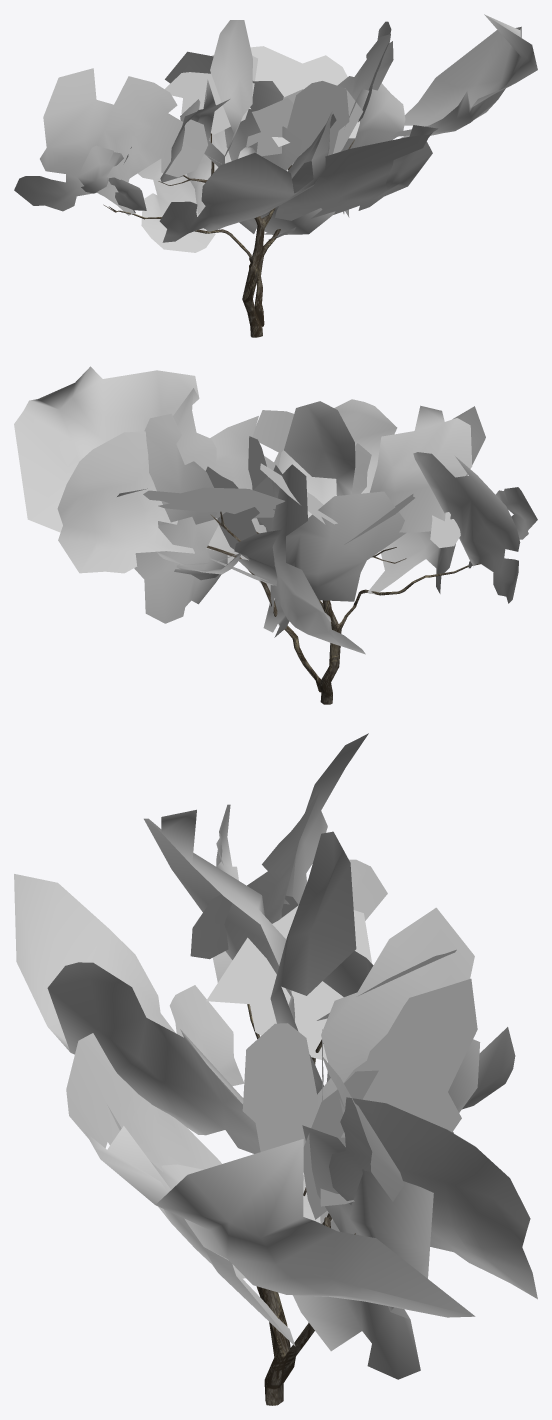
File: CI_Tree_MountainLaurel01_MOD_v3.fbx
3 views of the same model, one above another, from view 1: azimuth 30°, elevation 25°; view 2: azimuth 150°, elevation 25°; view 3: azimuth 270°, elevation 25° (orthographic). The views are drawn at different scales.
Visible parts, largest first — view 1: Tree_MountainLaurel_Branch_01_006Backup, Tree_MountainLaurel_Branch_01_004Backup, Tree_MountainLaurel_Branch_03_004Backup, Tree_MountainLaurel_Branch_01_005Backup, Tree_MountainLaurel_Branch_03_005Backup, Tree_MountainLaurel_Branch_02_006Backup, Tree_MountainLaurel_Branch_04_004Backup, Tree_MountainLaurel_01_001Backup, Tree_MountainLaurel_Branch_04_006Backup, Tree_MountainLaurel_Branch_08_005Backup, Tree_MountainLaurel_Branch_07_004Backup, Tree_MountainLaurel_Branch_05_004Backup (+6 smaller); view 2: Tree_MountainLaurel_Branch_03_005Backup, Tree_MountainLaurel_Branch_03_006Backup, Tree_MountainLaurel_Branch_02_006Backup, Tree_MountainLaurel_Branch_04_005Backup, Tree_MountainLaurel_Branch_01_006Backup, Tree_MountainLaurel_Branch_01_005Backup, Tree_MountainLaurel_Branch_01_004Backup, Tree_MountainLaurel_Branch_04_006Backup, Tree_MountainLaurel_Branch_03_004Backup, Tree_MountainLaurel_Branch_05_004Backup, Tree_MountainLaurel_Branch_04_004Backup, Tree_MountainLaurel_01_001Backup (+6 smaller); view 3: Tree_MountainLaurel_Branch_01_005Backup, Tree_MountainLaurel_Branch_03_005Backup, Tree_MountainLaurel_Branch_01_004Backup, Tree_MountainLaurel_Branch_03_006Backup, Tree_MountainLaurel_Branch_02_006Backup, Tree_MountainLaurel_Branch_04_006Backup, Tree_MountainLaurel_Branch_04_004Backup, Tree_MountainLaurel_Branch_03_004Backup, Tree_MountainLaurel_Branch_01_006Backup, Tree_MountainLaurel_Branch_08_006Backup, Tree_MountainLaurel_01_001Backup, Tree_MountainLaurel_Branch_04_005Backup (+3 smaller).
Boxes of the visible parts, x1,y1,x2,y2 form: Tree_MountainLaurel_Branch_01_006Backup: (14, 68, 207, 215); Tree_MountainLaurel_Branch_01_004Backup: (138, 51, 349, 252); Tree_MountainLaurel_Branch_03_004Backup: (268, 125, 438, 239); Tree_MountainLaurel_Branch_01_005Backup: (159, 111, 336, 242); Tree_MountainLaurel_Branch_03_005Backup: (390, 14, 537, 138); Tree_MountainLaurel_Branch_02_006Backup: (160, 20, 252, 182); Tree_MountainLaurel_Branch_04_004Backup: (249, 46, 359, 146); Tree_MountainLaurel_01_001Backup: (103, 133, 354, 337); Tree_MountainLaurel_Branch_04_006Backup: (341, 83, 405, 217); Tree_MountainLaurel_Branch_08_005Backup: (165, 55, 257, 134); Tree_MountainLaurel_Branch_07_004Backup: (246, 98, 293, 156); Tree_MountainLaurel_Branch_05_004Backup: (337, 34, 393, 100); Tree_MountainLaurel_Branch_03_005Backup: (14, 366, 216, 544); Tree_MountainLaurel_Branch_03_006Backup: (57, 431, 194, 573); Tree_MountainLaurel_Branch_02_006Backup: (284, 401, 472, 532); Tree_MountainLaurel_Branch_04_005Backup: (234, 491, 406, 601); Tree_MountainLaurel_Branch_01_006Backup: (413, 452, 520, 603); Tree_MountainLaurel_Branch_01_005Backup: (278, 399, 485, 594); Tree_MountainLaurel_Branch_01_004Backup: (248, 436, 365, 654); Tree_MountainLaurel_Branch_04_006Backup: (117, 488, 227, 623); Tree_MountainLaurel_Branch_03_004Backup: (206, 410, 371, 626); Tree_MountainLaurel_Branch_05_004Backup: (144, 413, 217, 524); Tree_MountainLaurel_Branch_04_004Backup: (143, 487, 284, 518); Tree_MountainLaurel_01_001Backup: (207, 511, 480, 704); Tree_MountainLaurel_Branch_01_005Backup: (14, 874, 260, 1153); Tree_MountainLaurel_Branch_03_005Backup: (85, 1126, 475, 1317); Tree_MountainLaurel_Branch_01_004Backup: (242, 907, 515, 1223); Tree_MountainLaurel_Branch_03_006Backup: (329, 1097, 537, 1299); Tree_MountainLaurel_Branch_02_006Backup: (144, 809, 356, 1094); Tree_MountainLaurel_Branch_04_006Backup: (293, 1125, 433, 1379); Tree_MountainLaurel_Branch_04_004Backup: (320, 978, 477, 1206); Tree_MountainLaurel_Branch_03_004Backup: (66, 1033, 295, 1346); Tree_MountainLaurel_Branch_01_006Backup: (190, 733, 387, 959); Tree_MountainLaurel_Branch_08_006Backup: (206, 905, 372, 1060); Tree_MountainLaurel_01_001Backup: (247, 1004, 355, 1405); Tree_MountainLaurel_Branch_04_005Backup: (323, 951, 480, 1112).
Size of the model in its own units: 498 by 299 by 253.
